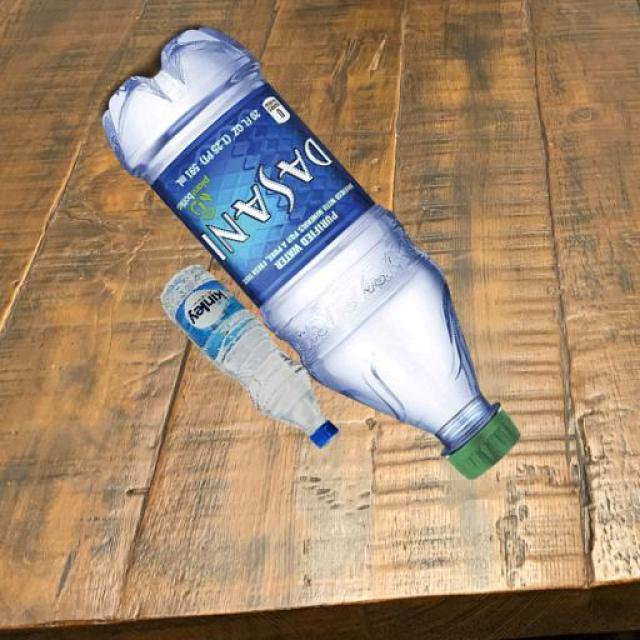bottle: (88, 31, 538, 484), (161, 253, 340, 456)
